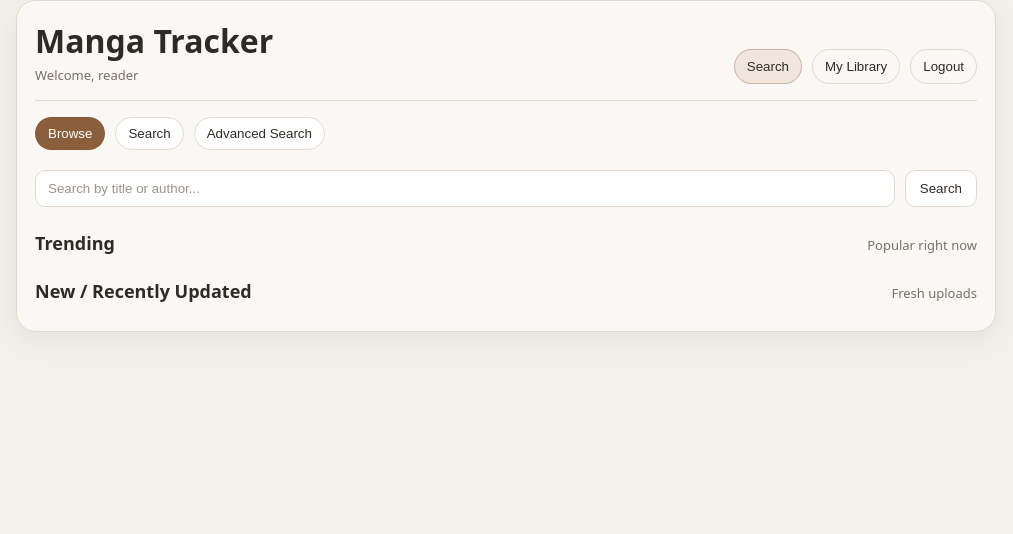
Scenario: restores a server session and logs out on the server
Check: the text "Welcome, reader" is shown, box [35,66,138,84]
Click the button "Logout" at x=944, y=66, box [910,49,977,84]
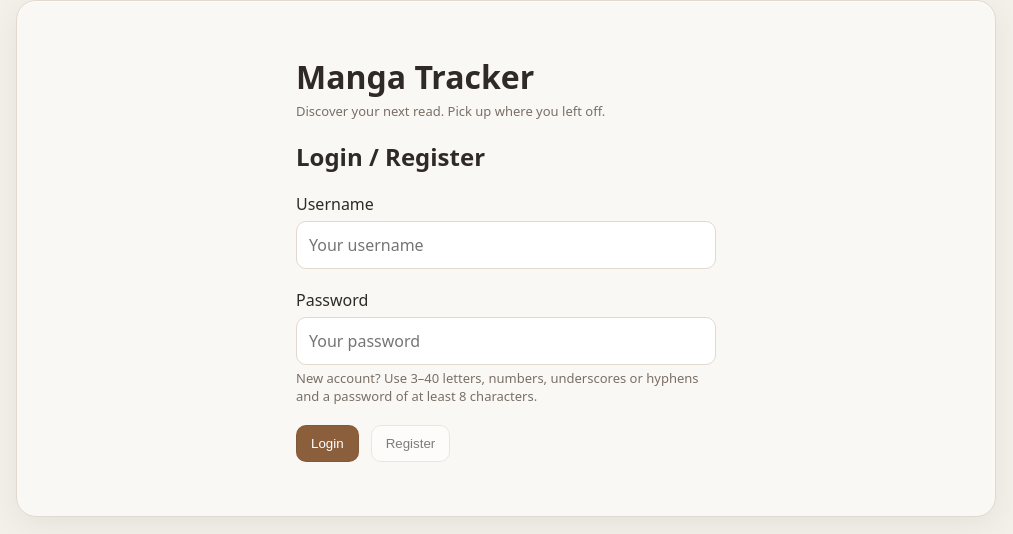
Check: the heading "Login / Register" is shown, box [296,140,485,173]
